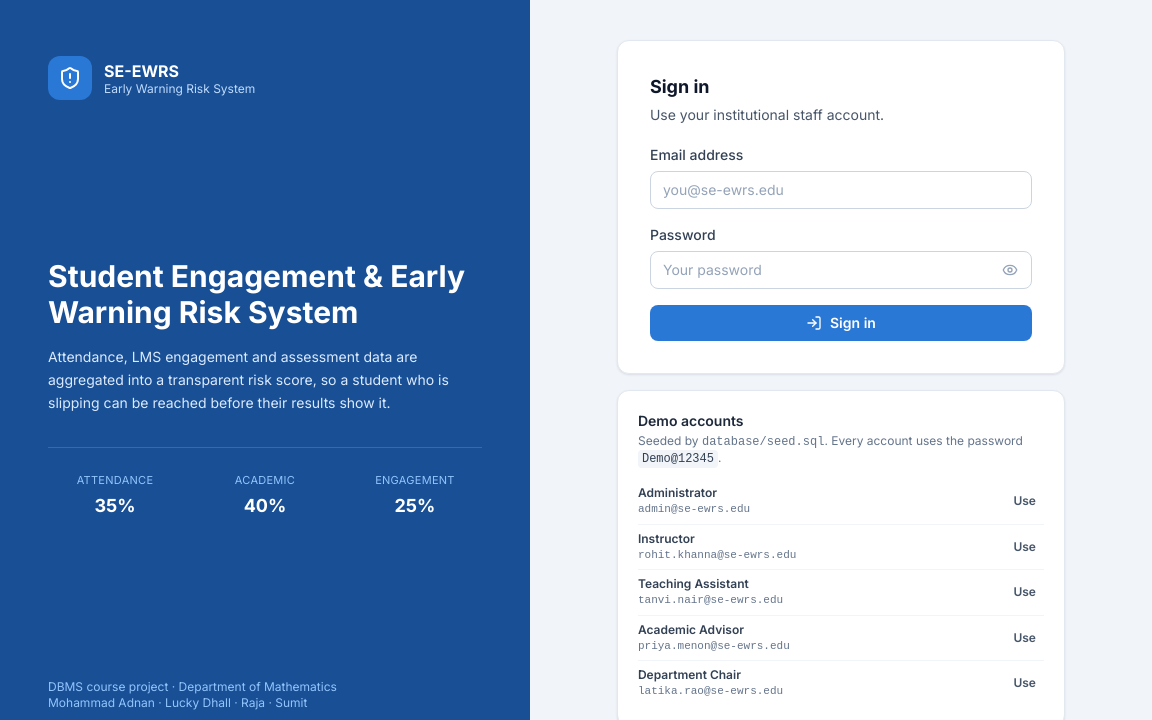
Test: LoginPage demo credentials › fills the form when a demo account is chosen
This screenshot has width=1152, height=720.
What coordinates should you click on to do the following:
click the button "Use" in the row of "Administrator"
I would click on:
 (1025, 501)
Its box is x1=1005 y1=489 x2=1044 y2=513.
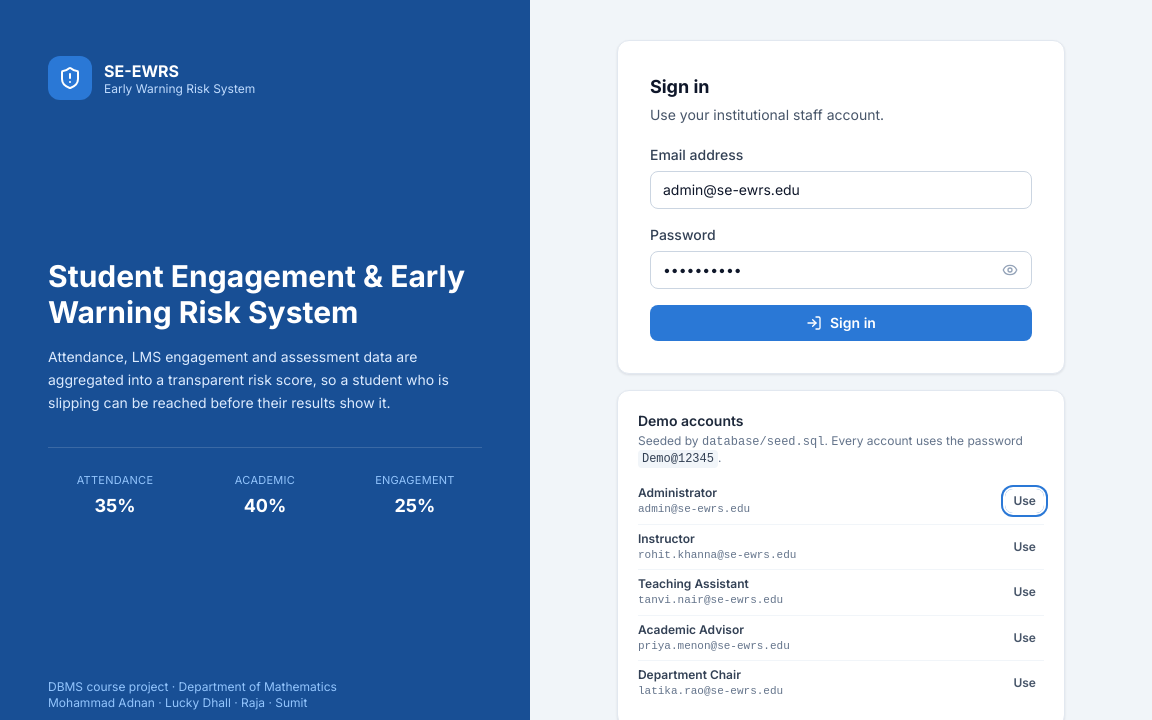
Check: the field labelled "Email address" holds "admin@se-ewrs.edu", box x1=650 y1=171 x2=1032 y2=209
Check: the password field labelled "Password" holds "Demo@12345", box x1=650 y1=251 x2=1032 y2=289
